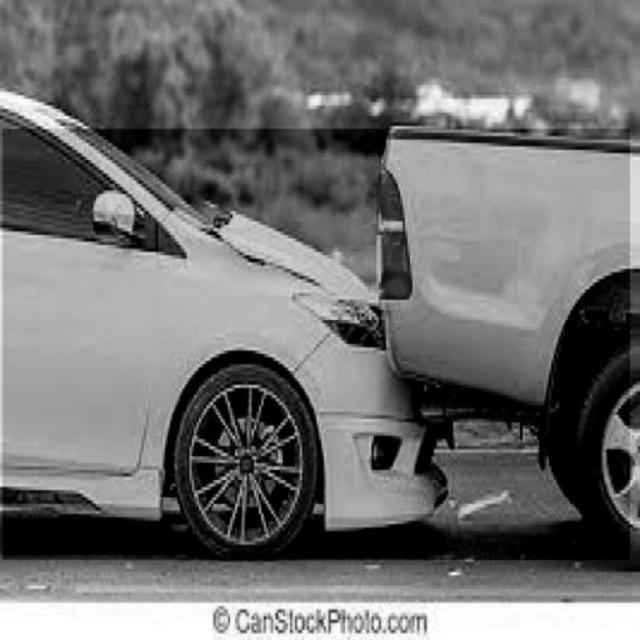accident: (3, 129, 630, 560)
